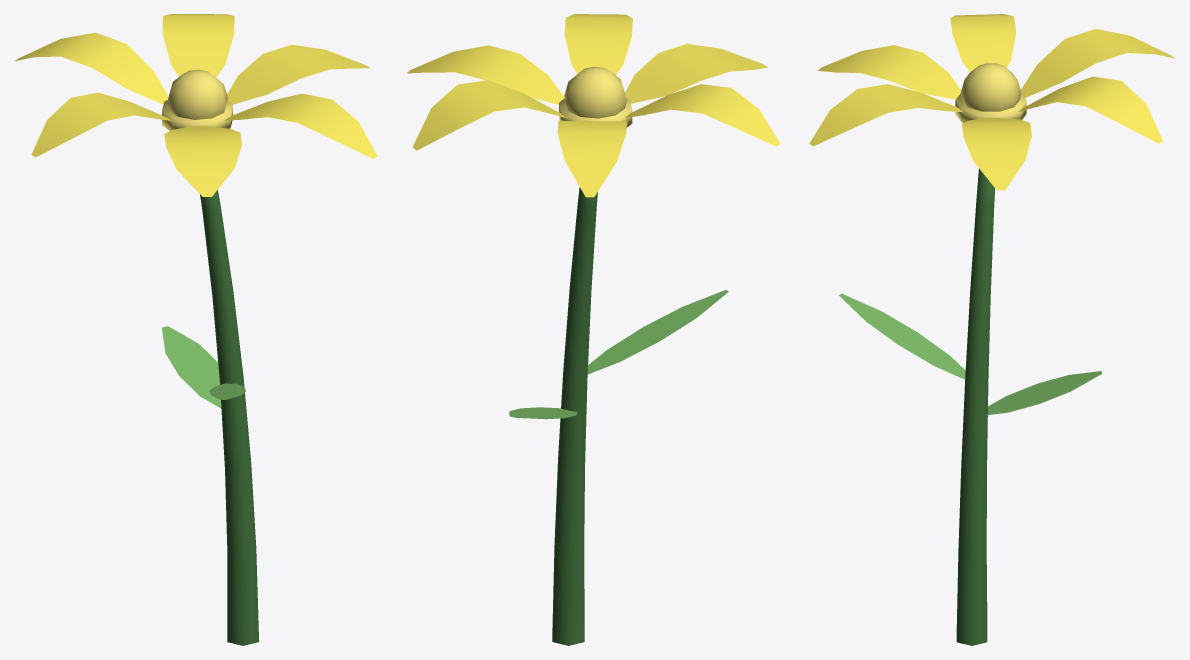
The model's file is flower_yellowA.glb.
3 renders of one model, left to right at view 1: azimuth 30°, elevation 25°; view 2: azimuth 150°, elevation 25°; view 3: azimuth 270°, elevation 25°, orthographic. The views are drawn at different scales.
Visible parts, largest first — view 1: flower_yellowA; view 2: flower_yellowA; view 3: flower_yellowA.
Boxes of the visible parts, x1=… form: flower_yellowA: x1=14, y1=14, x2=377, y2=645; flower_yellowA: x1=407, y1=14, x2=780, y2=645; flower_yellowA: x1=809, y1=14, x2=1174, y2=645.
Size of the model in its own units: 0.1545 by 0.2411 by 0.144.
